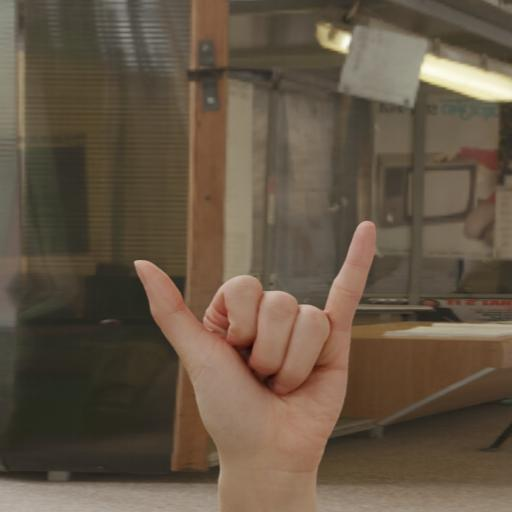Y: (132, 216, 382, 462)
